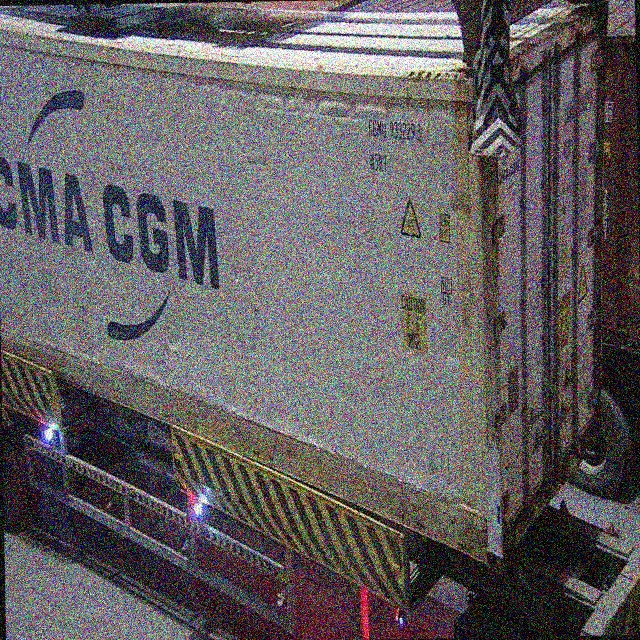Hole: (238, 144, 272, 184)
